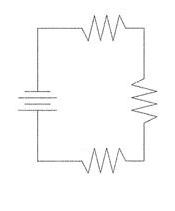resistor: (68, 8, 131, 47), (67, 140, 133, 177), (121, 69, 160, 126)
